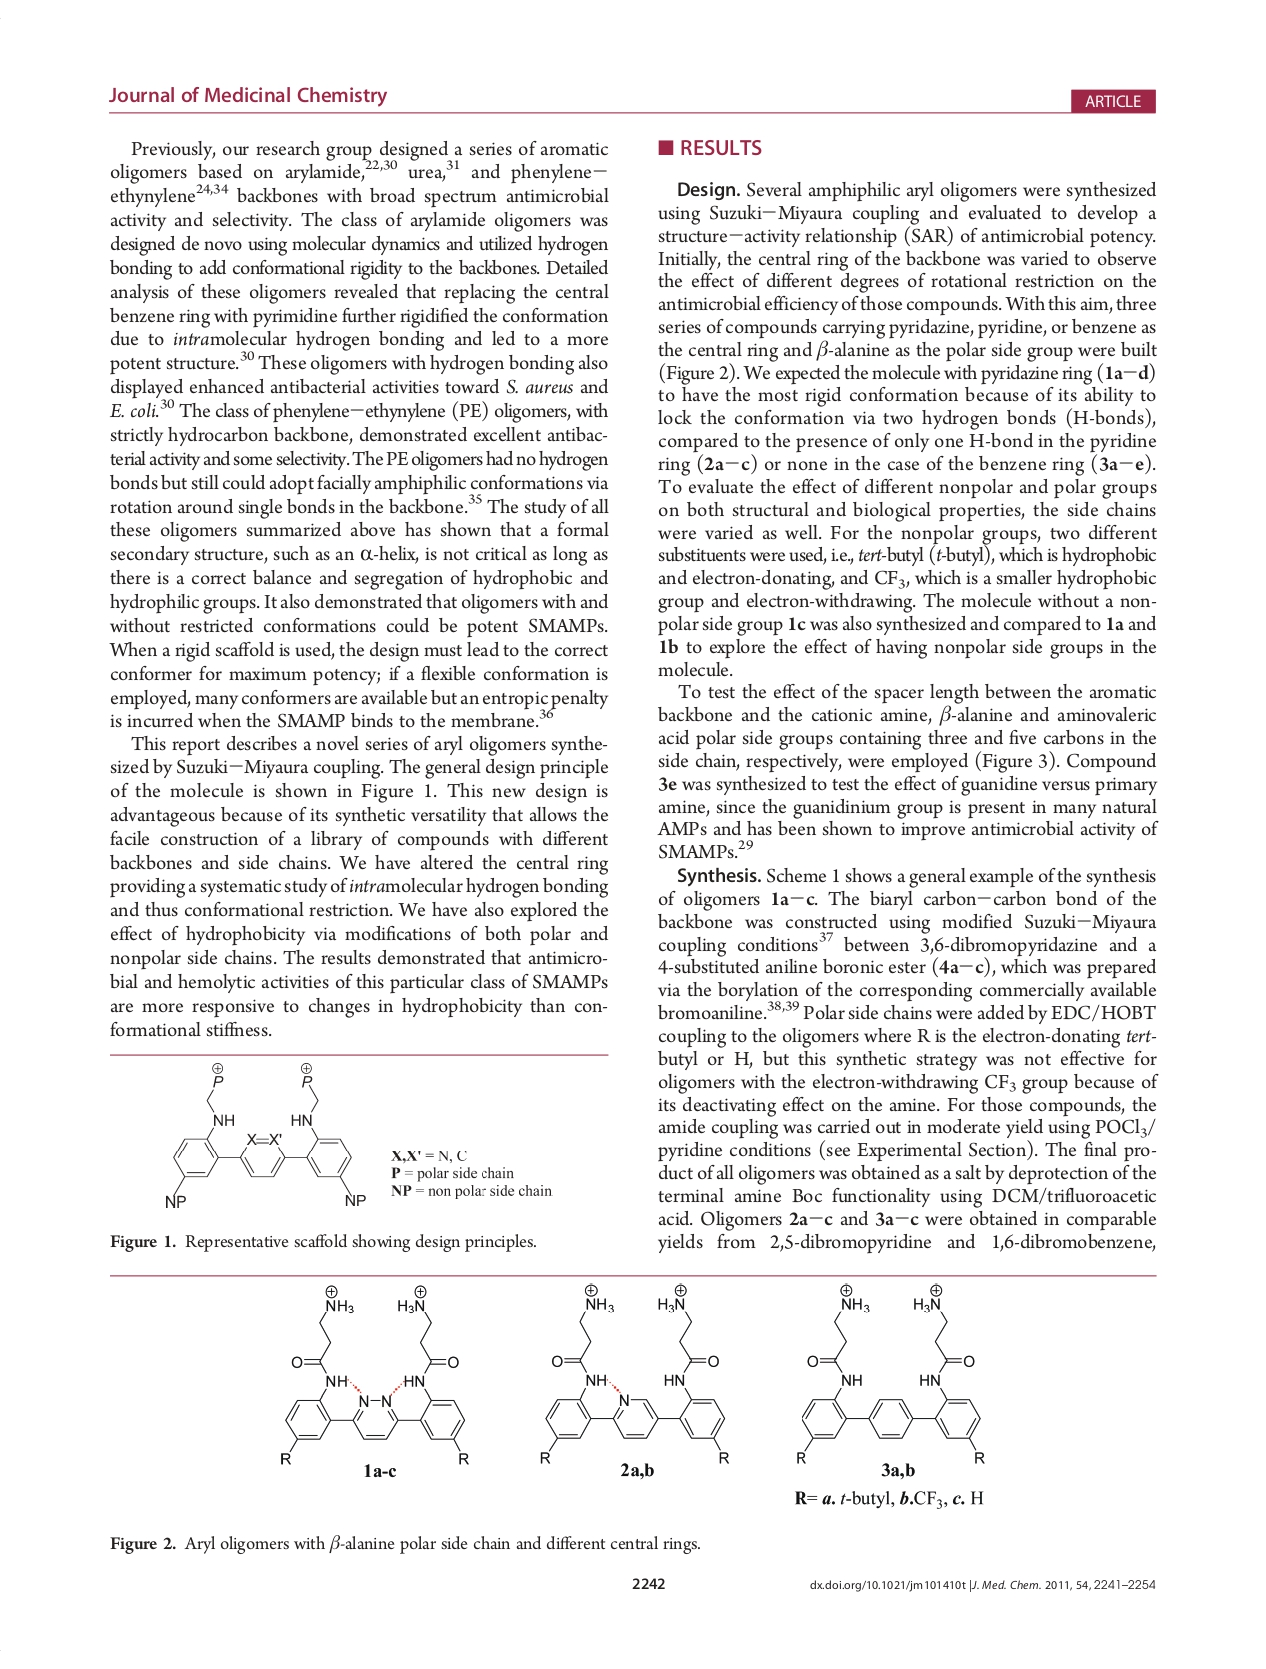exist_molecular: (793, 1279, 988, 1468), (277, 1282, 471, 1468), (537, 1282, 730, 1466), (157, 1059, 368, 1212)
